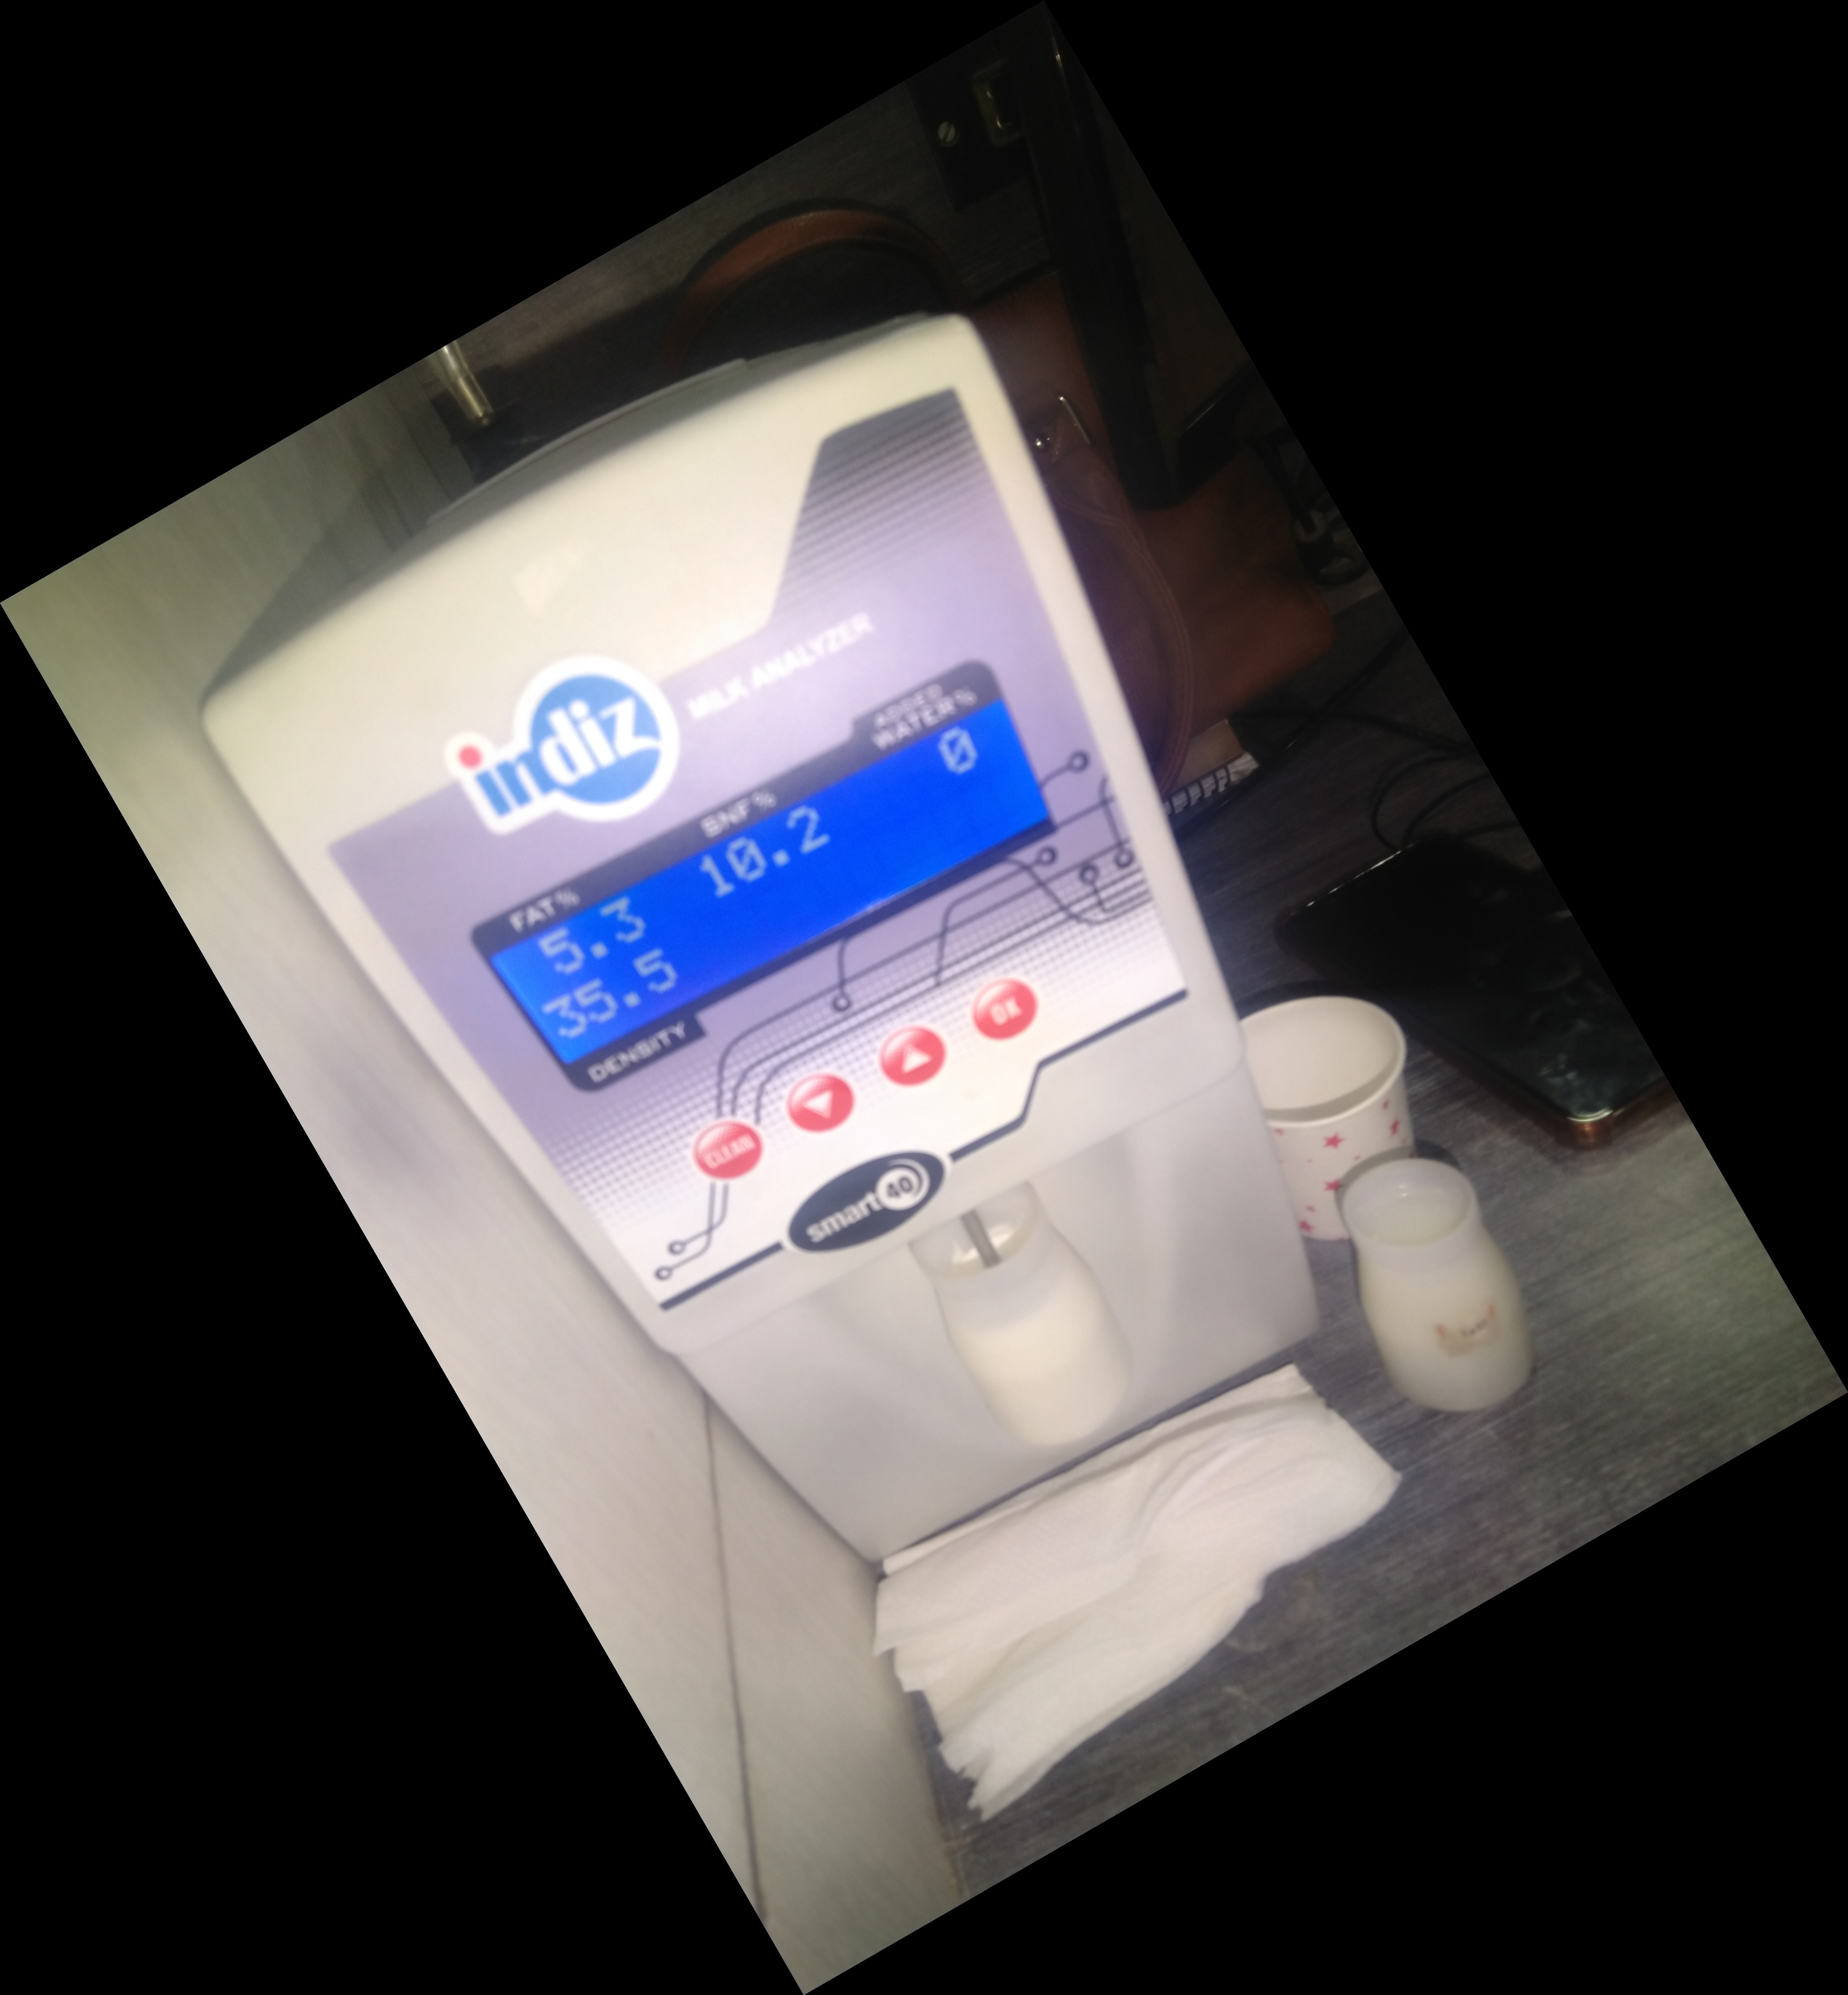lcd: (469, 712, 1048, 1064)
